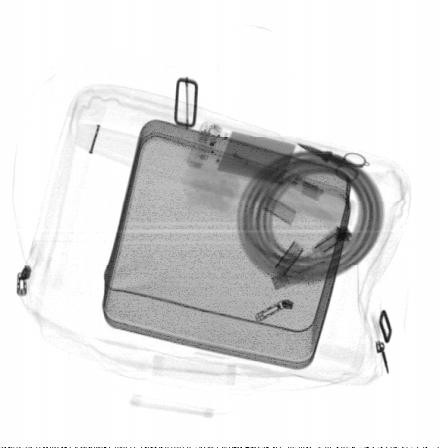Powerbank: (186, 120, 302, 190)
Scissors: (299, 141, 368, 183)
